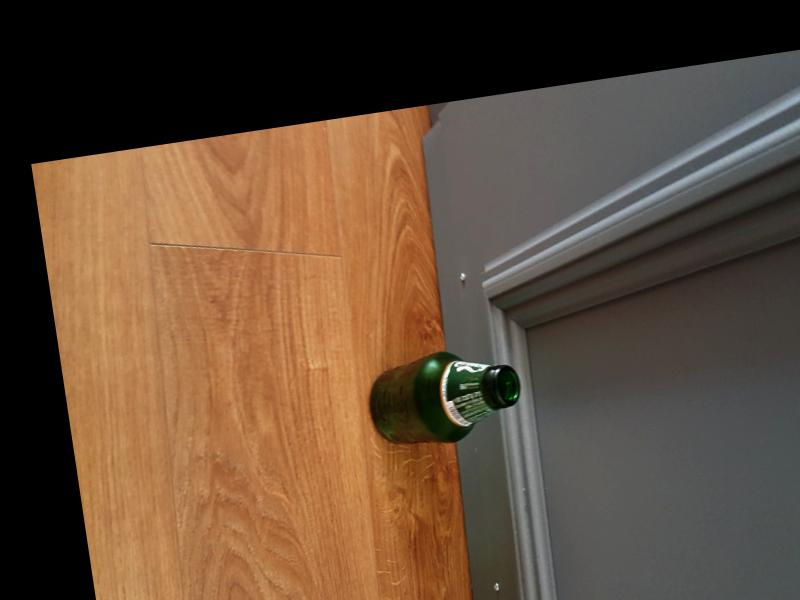Beer: (363, 341, 526, 454)
